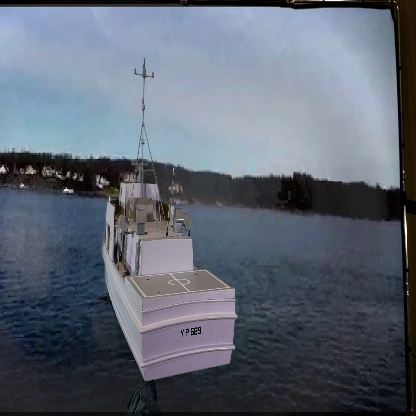YP689: (100, 60, 239, 385)
